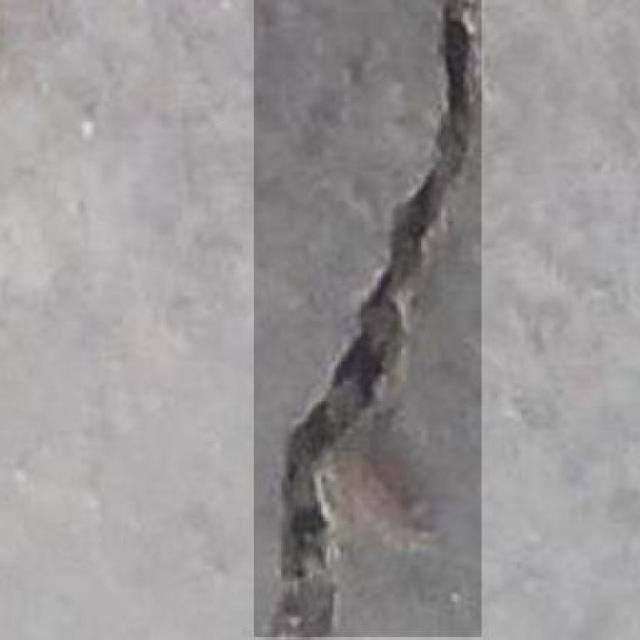Crack: (254, 0, 485, 640)
